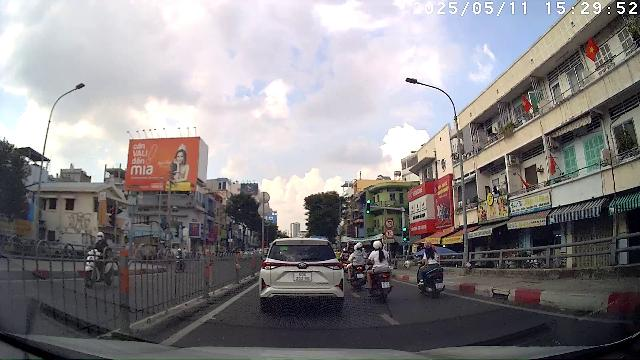103b-cam-oto-re-phai: (384, 229, 394, 239)
103c-cam-oto-re-trai: (384, 218, 394, 229)
